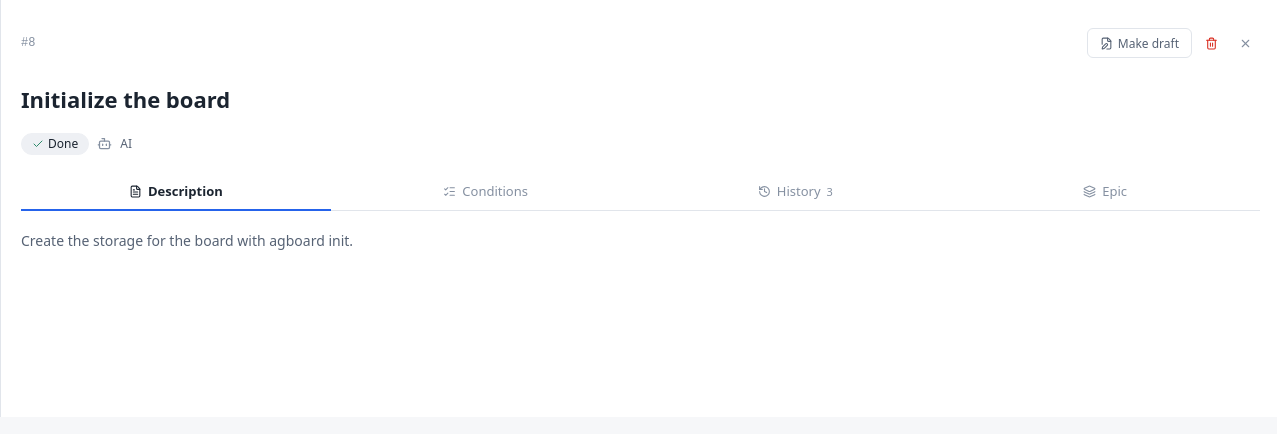
Test case: DetailPanel › draws one history point per event with only the recorded datetime and reason
Click the tab "History 3": (795, 192) x1=640 y1=173 x2=950 y2=211
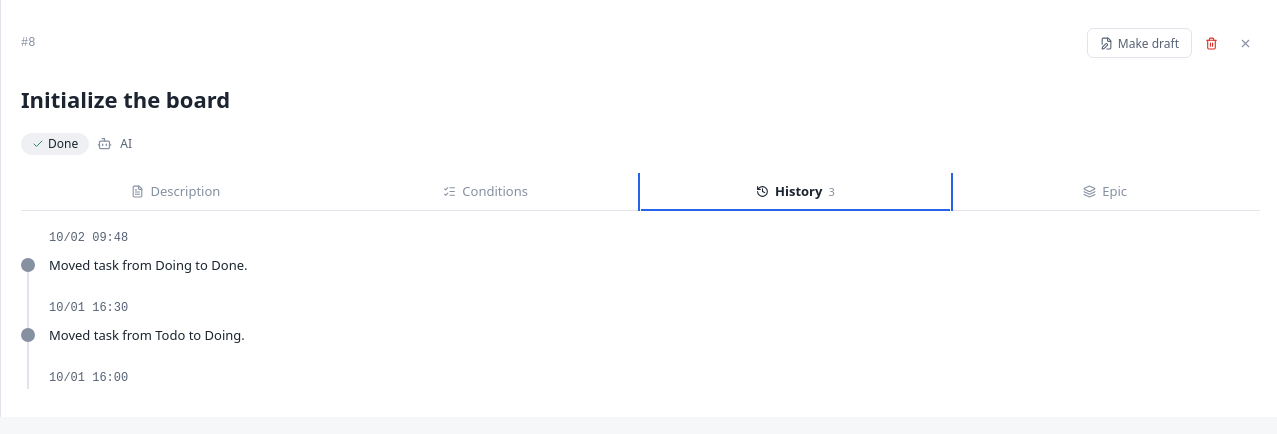
expect the number of list items with class "history__step" is 3: met
